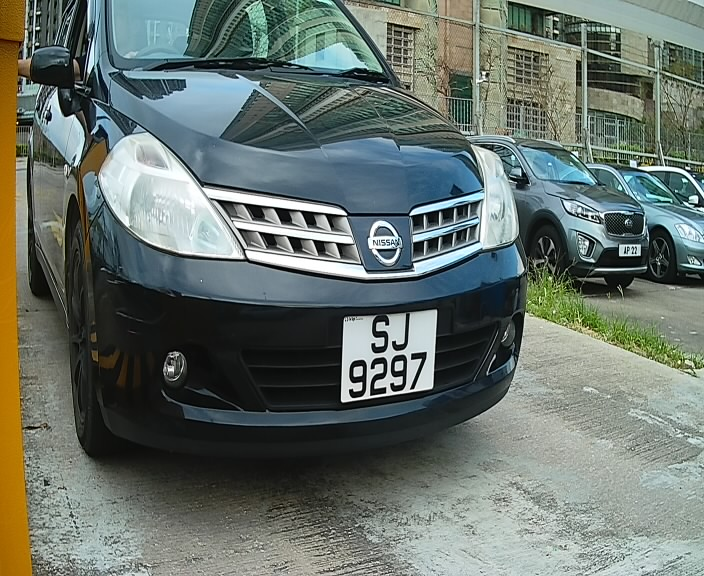Car: (15, 2, 537, 487)
License Plate: (337, 304, 441, 408)
